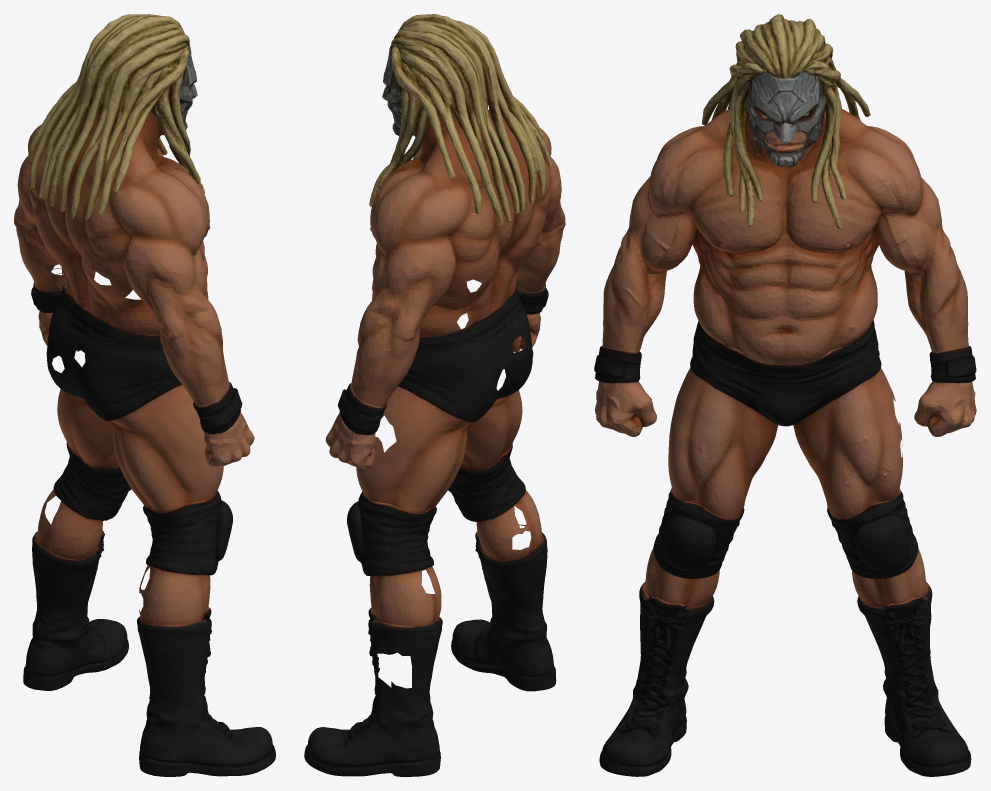
The model's file is BANNON.glb.
3 renders of one model, left to right at view 1: azimuth 30°, elevation 25°; view 2: azimuth 150°, elevation 25°; view 3: azimuth 270°, elevation 25°, orthographic. The views are drawn at different scales.
Parts seen in each view (by area): view 1: hipL, shL, knL, chest, knR, head, ftL, pelvis, ftR, elL, hipR, shR; view 2: hipR, shR, chest, knR, knL, head, ftR, pelvis, ftL, hipL, elR, shL (+1 smaller); view 3: chest, elL, elR, shR, shL, knL, knR, hipL, pelvis, head, hipR, ftR (+3 smaller).
Part boxes in pixels (box(x1,y1,x2,y2)): hipL: box(88, 289, 254, 495); shL: box(98, 90, 210, 310); knL: box(124, 476, 232, 693); chest: box(29, 83, 204, 297); knR: box(32, 433, 131, 610); head: box(70, 14, 196, 124); ftL: box(139, 678, 275, 776); pelvis: box(47, 261, 115, 448); ftR: box(23, 592, 128, 690); elL: box(144, 241, 242, 411); hipR: box(14, 208, 89, 447); shR: box(15, 82, 76, 221); hipR: box(329, 291, 491, 496); shR: box(366, 91, 481, 325); chest: box(369, 86, 551, 297); knR: box(347, 479, 454, 692); knL: box(448, 431, 547, 610); head: box(383, 14, 512, 124); ftR: box(304, 677, 440, 776); pelvis: box(463, 261, 532, 449); ftL: box(451, 595, 556, 691); hipL: box(488, 236, 561, 447); elR: box(325, 257, 383, 448); shL: box(513, 96, 561, 221); chest: box(721, 98, 861, 302); elL: box(598, 232, 786, 382); elR: box(797, 250, 976, 433); shR: box(810, 78, 956, 267); shL: box(626, 76, 761, 248); knL: box(639, 472, 755, 665); knR: box(815, 472, 932, 665); hipL: box(594, 321, 751, 478); pelvis: box(734, 298, 833, 477); head: box(729, 14, 840, 125); hipR: box(820, 246, 976, 481); ftR: box(881, 652, 971, 776).
Size of the model in its own units: 0.4143 by 1.88 by 0.8876.
Materials: 1 (1 with a texture image).
